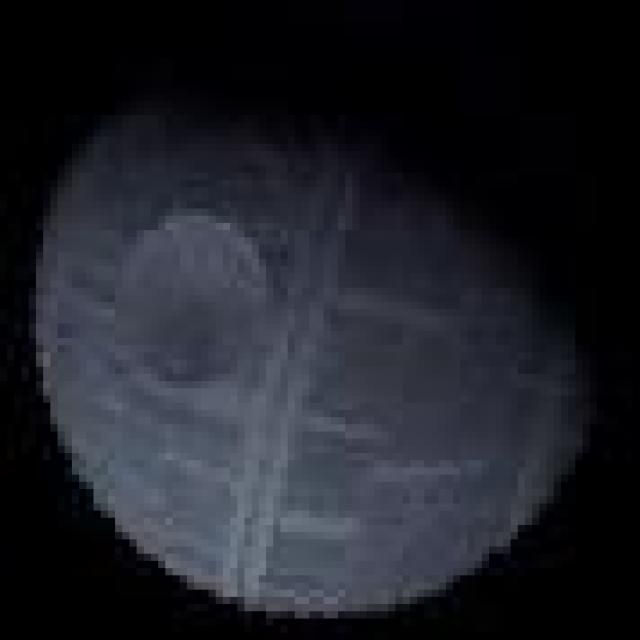Death Star: (21, 86, 597, 626)
